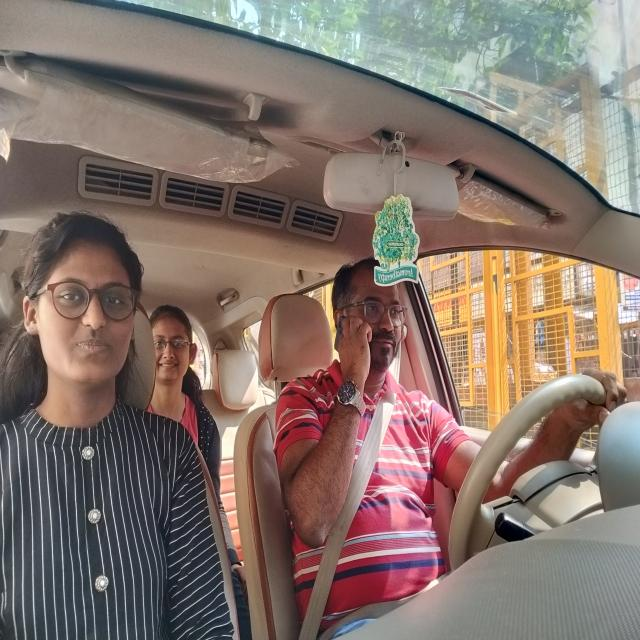mobile: (340, 307, 378, 389)
person: (7, 202, 150, 422), (331, 245, 419, 400), (143, 296, 204, 410)
